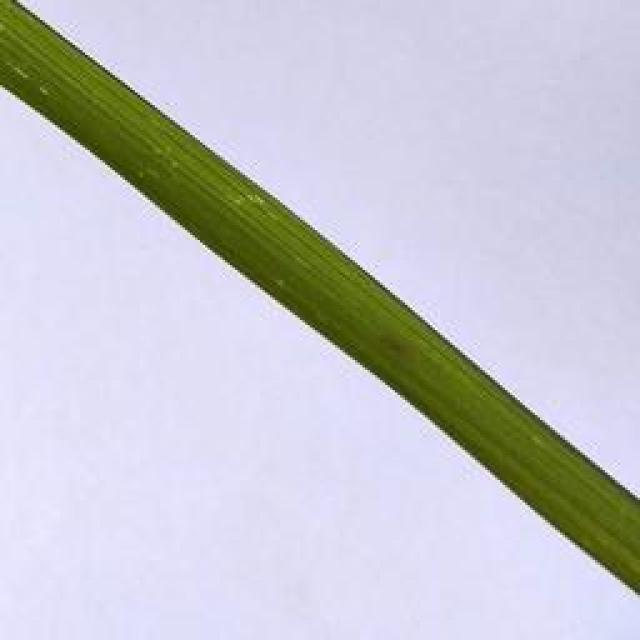Brown_Spot: (370, 329, 418, 360)
